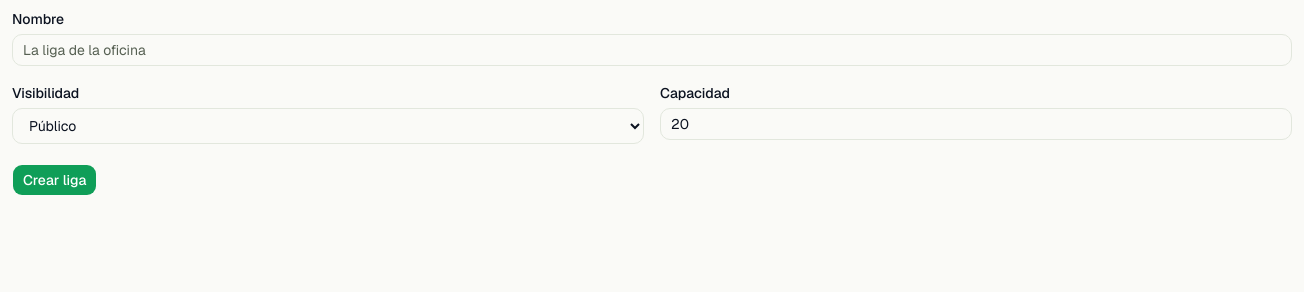
Test case: CreatePoolForm (Unit 47 — supersede BR-45.2 restrictions) › shows the membersCanInvite Switch when type=PRIVATE
Select "Privado" in the dropdown labelled "Visibilidad" at (328, 126), box top-left (12, 108), bottom-right (644, 144)
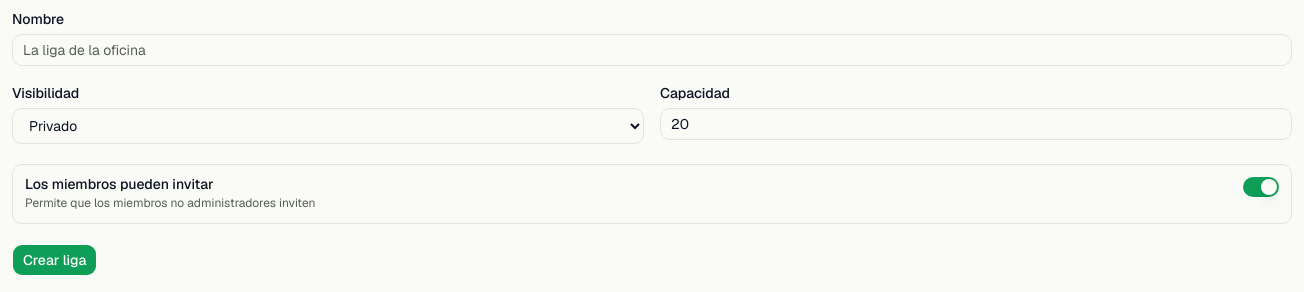
Check: the switch with test id "create-pool-members-can-invite" is shown, box top-left (1243, 177), bottom-right (1279, 197)
